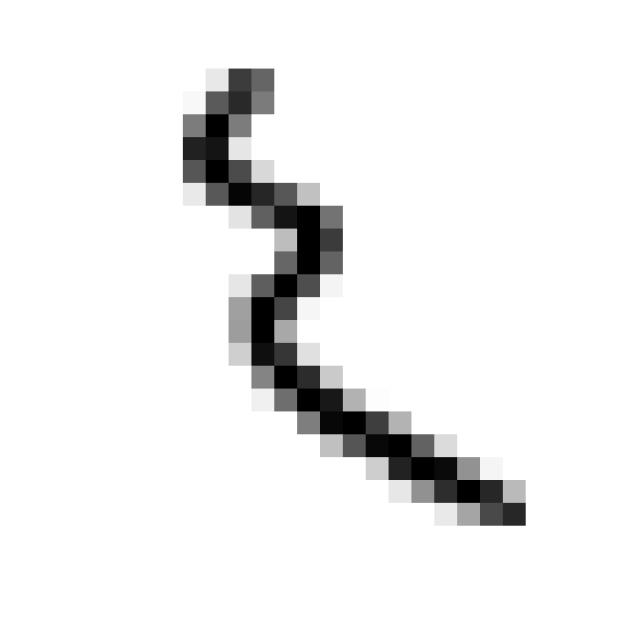4 -four-: (163, 48, 542, 545)
